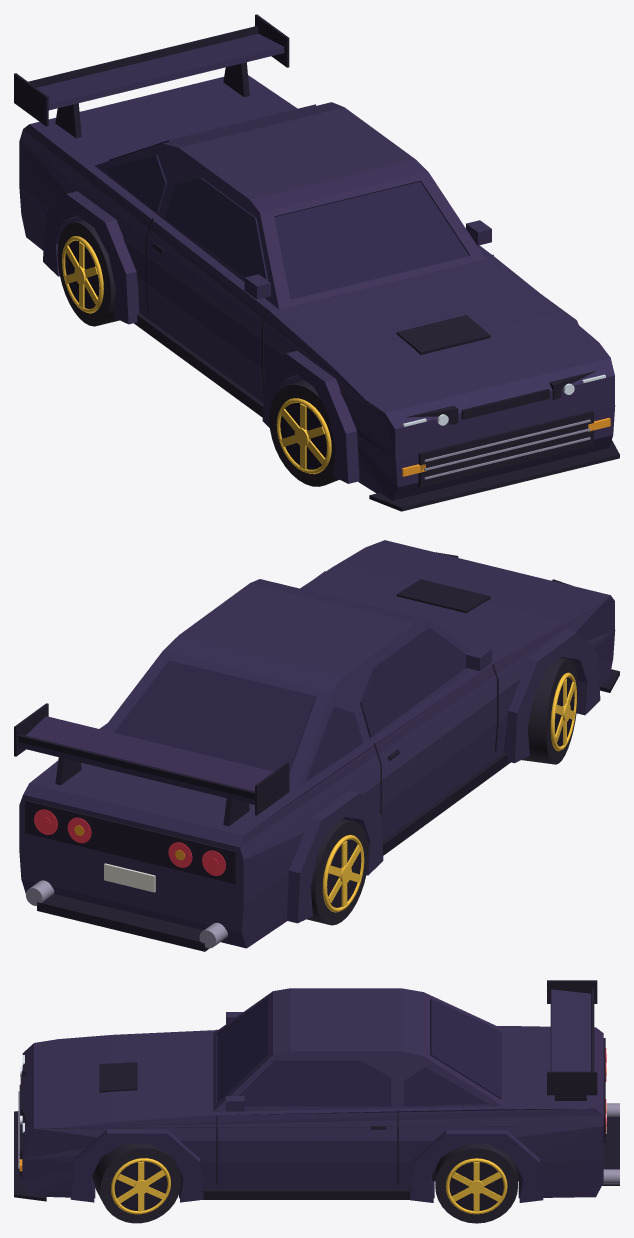
The model's file is raijin_34r_night.glb.
The picture shows the model from 3 angles, top to bottom: view 1: azimuth 30°, elevation 25°; view 2: azimuth 150°, elevation 25°; view 3: azimuth 270°, elevation 25°; orthographic projection. The views are drawn at different scales.
Parts seen in each view (by area): view 1: body_top, body_mid, cabin, glass_windshield, wing_blade, glass_door, mouth, flare_rear_L, body_low_front, body_low_mid, flare_front_L, lip_front (+16 smaller); view 2: body_top, cabin, body_mid, glass_rear, body_low_rear, wing_blade, glass_door, flare_front_L, flare_rear_L, tail_panel, body_low_mid, diffuser (+13 smaller); view 3: body_top, body_mid, cabin, glass_door, body_low_mid, glass_rear, flare_front_R, flare_rear_R, glass_windshield, wing_blade, wheel_FR_tire, wheel_RR_tire (+13 smaller).
Boxes of the visible parts, x1,y1,x2,y2 form: body_top: (19, 75, 598, 399); body_mid: (19, 142, 614, 458); cabin: (95, 102, 485, 309); glass_windshield: (274, 181, 469, 299); wing_blade: (37, 33, 284, 110); glass_door: (165, 178, 268, 280); mouth: (417, 411, 593, 487); flare_rear_L: (43, 191, 139, 324); body_low_front: (357, 405, 615, 500); body_low_mid: (137, 276, 267, 402); flare_front_L: (262, 351, 359, 483); lip_front: (369, 440, 619, 511); body_top: (19, 547, 598, 859); cabin: (103, 579, 472, 789); body_mid: (19, 540, 614, 903); glass_rear: (114, 660, 316, 772); body_low_rear: (19, 849, 288, 948); wing_blade: (19, 716, 273, 804); glass_door: (360, 627, 465, 737); flare_front_L: (504, 630, 600, 763); flare_rear_L: (286, 790, 383, 923); tail_panel: (25, 800, 236, 883); body_low_mid: (378, 716, 507, 841); diffuser: (37, 894, 209, 951); body_top: (58, 1026, 603, 1127); body_mid: (22, 1039, 603, 1161); cabin: (213, 988, 503, 1111); glass_door: (239, 1060, 391, 1106); body_low_mid: (179, 1162, 434, 1198); glass_rear: (430, 998, 501, 1099); flare_front_R: (70, 1129, 203, 1202); flare_rear_R: (410, 1130, 543, 1202); glass_windshield: (216, 998, 268, 1102); wing_blade: (550, 989, 591, 1071); wheel_FR_tire: (93, 1144, 181, 1223); wheel_RR_tire: (435, 1144, 517, 1223).
Bounding box in the file's own units: 1.98 × 1.36 × 4.82.
